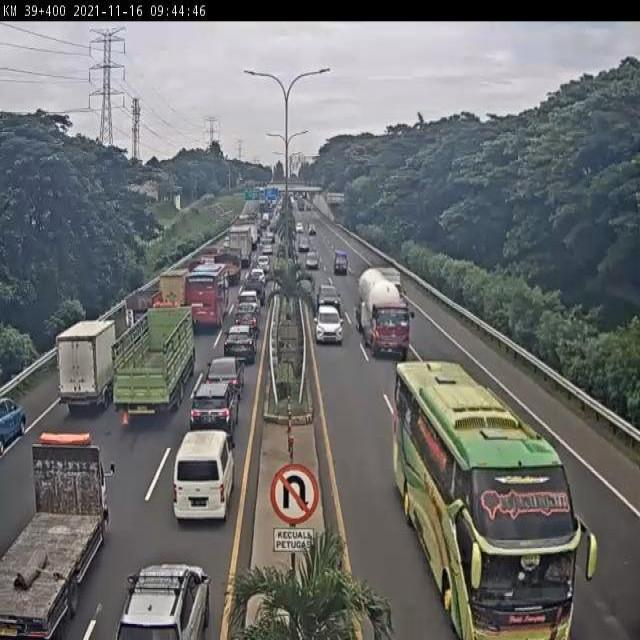big bus: (393, 360, 598, 640), (184, 267, 227, 332)
car: (111, 565, 210, 640), (188, 382, 236, 447), (204, 361, 245, 403), (313, 304, 346, 345), (221, 329, 253, 368), (232, 308, 259, 335), (236, 288, 261, 316)
small bus: (172, 433, 232, 518)
small truck: (154, 268, 187, 315)
truck-l-: (111, 315, 197, 421)
truck-m-: (0, 434, 115, 640), (54, 321, 115, 420), (118, 289, 161, 332)
truck-xl-: (355, 264, 415, 357)
